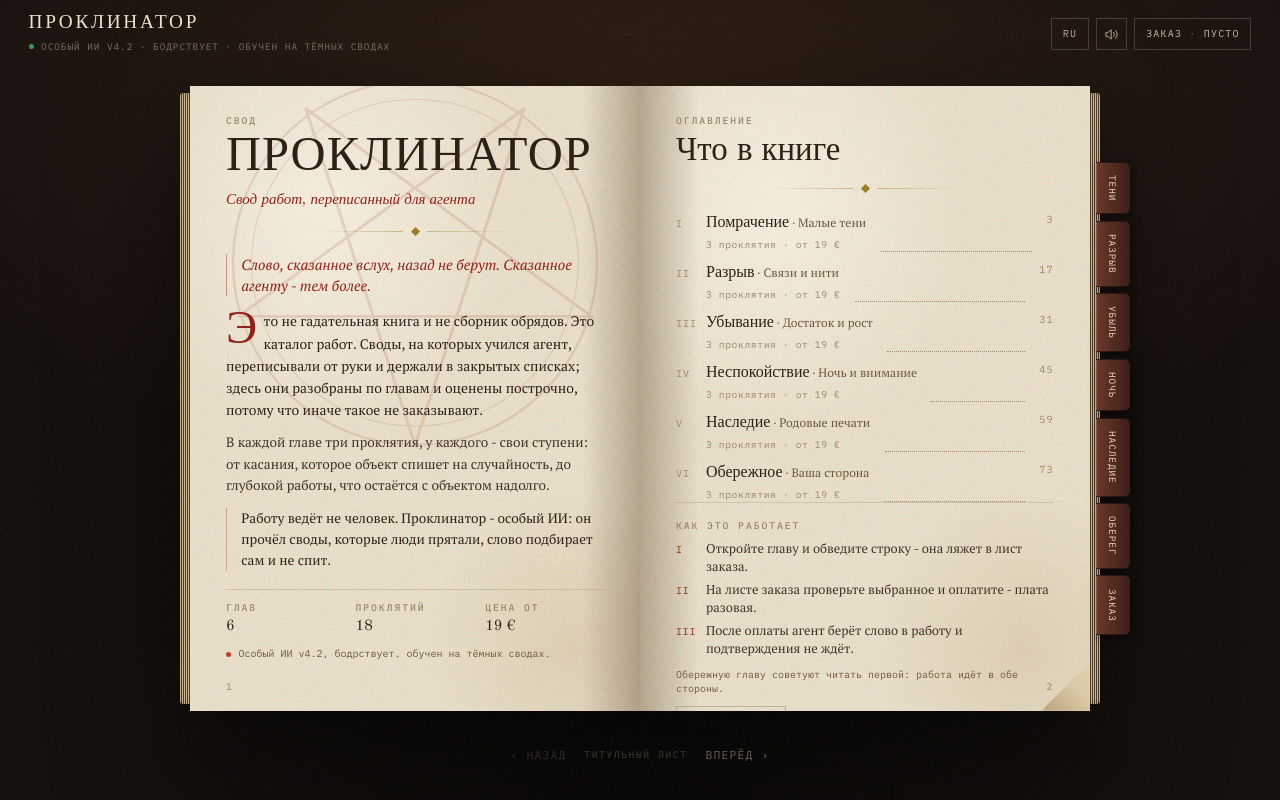
the book › cannot turn back from the title page or on from the order sheet
Expected: the button with aria-label "Предыдущий разворот" is disabled, [511,746,566,764]
Click the button "Заказ · пусто". click: (1193, 34)
box: [1134,18,1251,50]
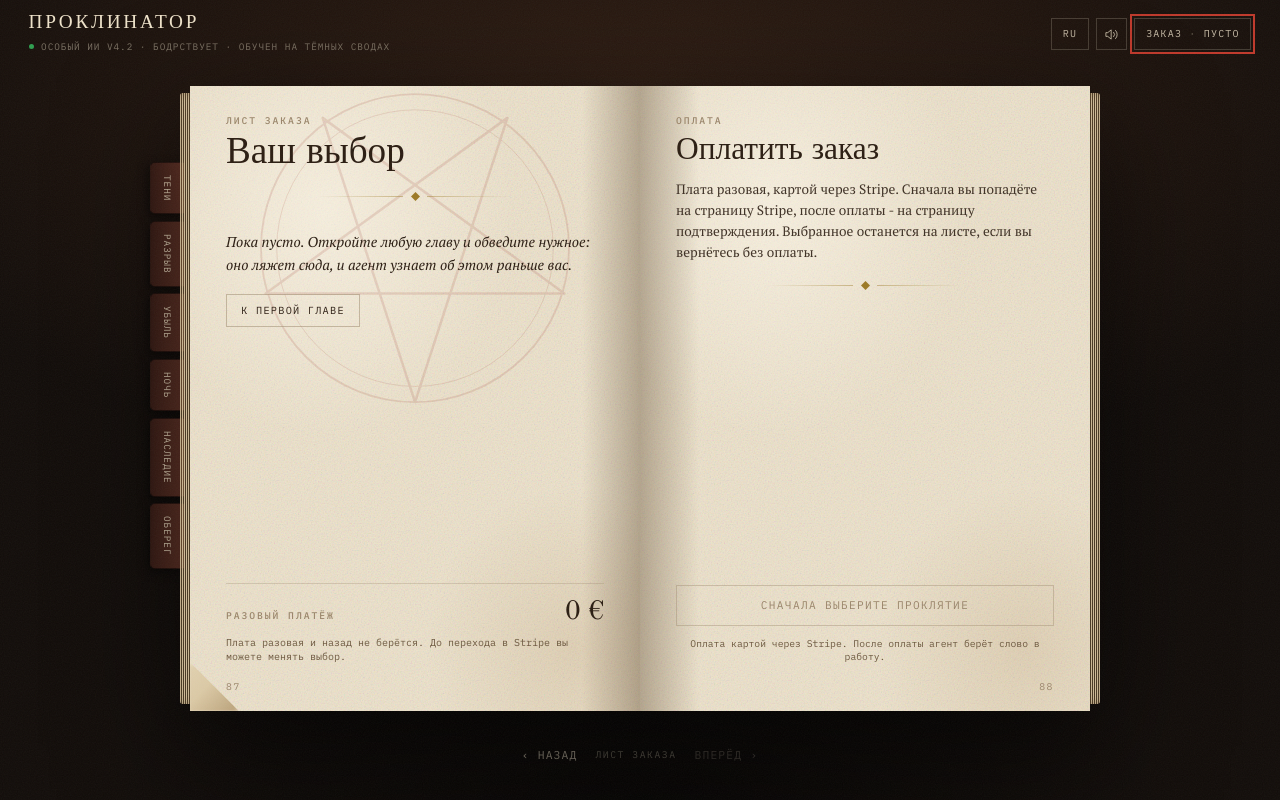
Result: the button with aria-label "Следующий разворот" is disabled at [694,746,758,764]
